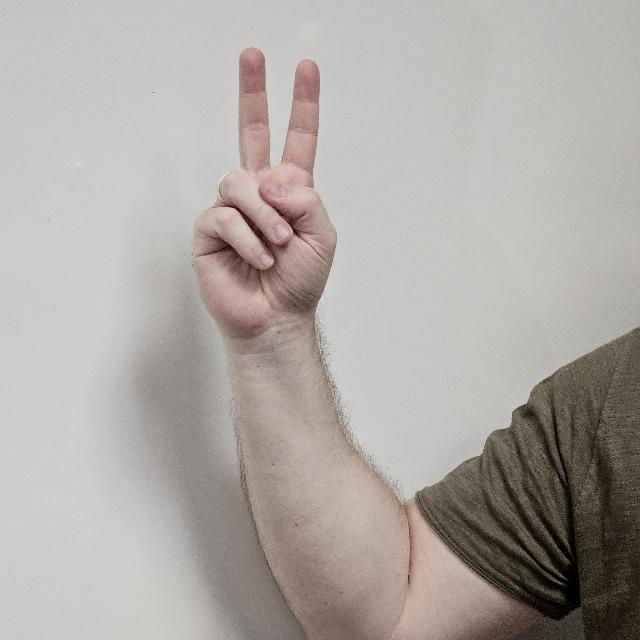Triangulo: (187, 46, 347, 428)
